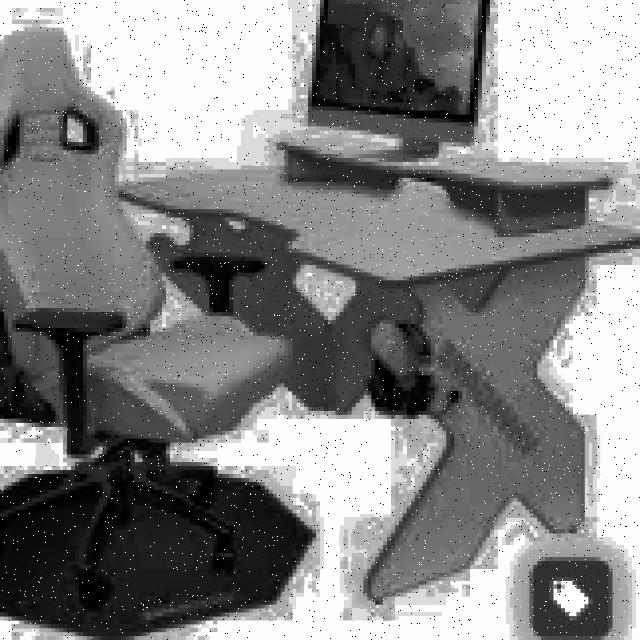book: (0, 27, 297, 608)
table: (119, 142, 640, 600)
